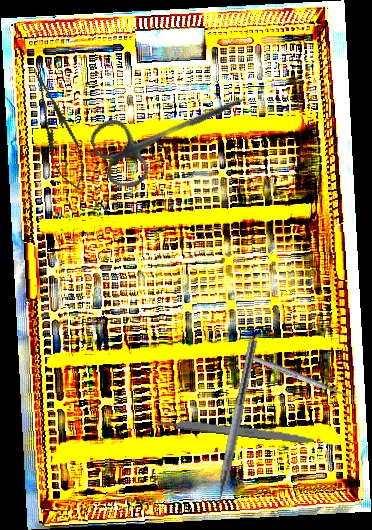Chopper: (200, 335, 259, 523)
Iris Scissors: (85, 64, 258, 195)
Needle Holder: (21, 62, 95, 197)
Scalpel Handle: (156, 415, 318, 446)
Surgical Spoon: (248, 353, 359, 404)
